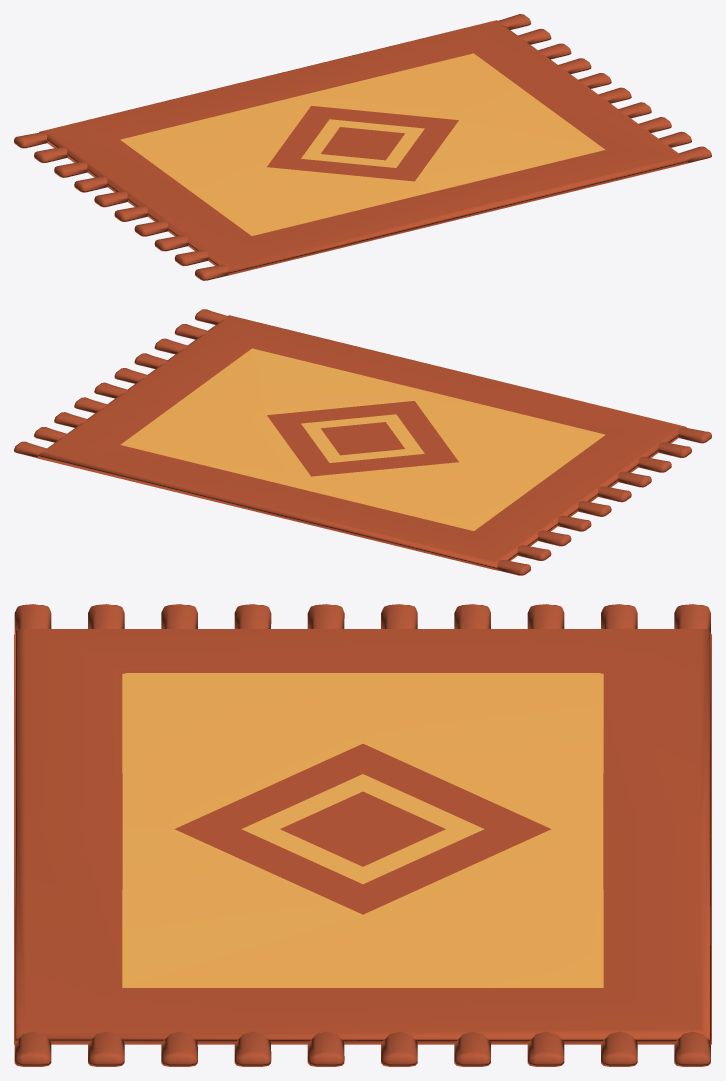
File: Carpet_07.glb
3 renders of one model, top to bottom at view 1: azimuth 30°, elevation 25°; view 2: azimuth 150°, elevation 25°; view 3: azimuth 270°, elevation 25°, orthographic. The views are drawn at different scales.
Parts seen in each view (by area): view 1: Carpet_07; view 2: Carpet_07; view 3: Carpet_07.
Part boxes in pixels (x1,y1,x2,y2): Carpet_07: [14, 14, 711, 280]; Carpet_07: [14, 309, 711, 575]; Carpet_07: [14, 604, 711, 1066].
Bounding box in the file's own units: 2.77 × 0.0339 × 1.8.
Materials: 1 (1 with a texture image).
